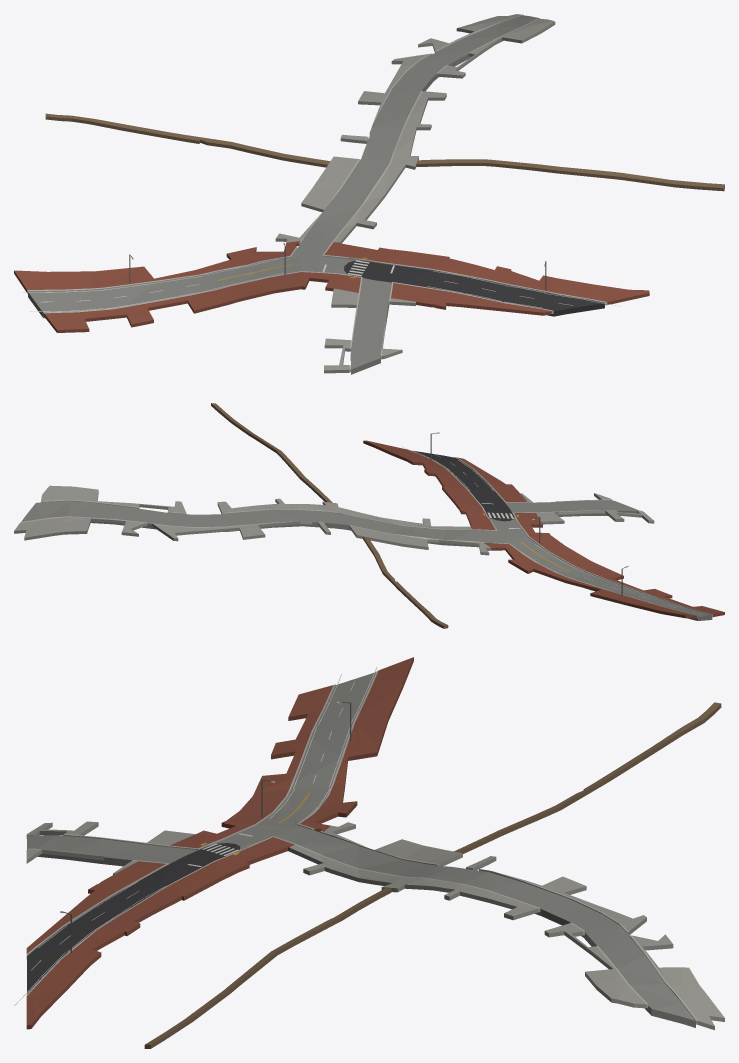
3 views of the same model, one above another, from view 1: azimuth 30°, elevation 25°; view 2: azimuth 150°, elevation 25°; view 3: azimuth 270°, elevation 25° (orthographic). The views are drawn at different scales.
Size of the model in its own units: 149 by 20.49 by 110.
